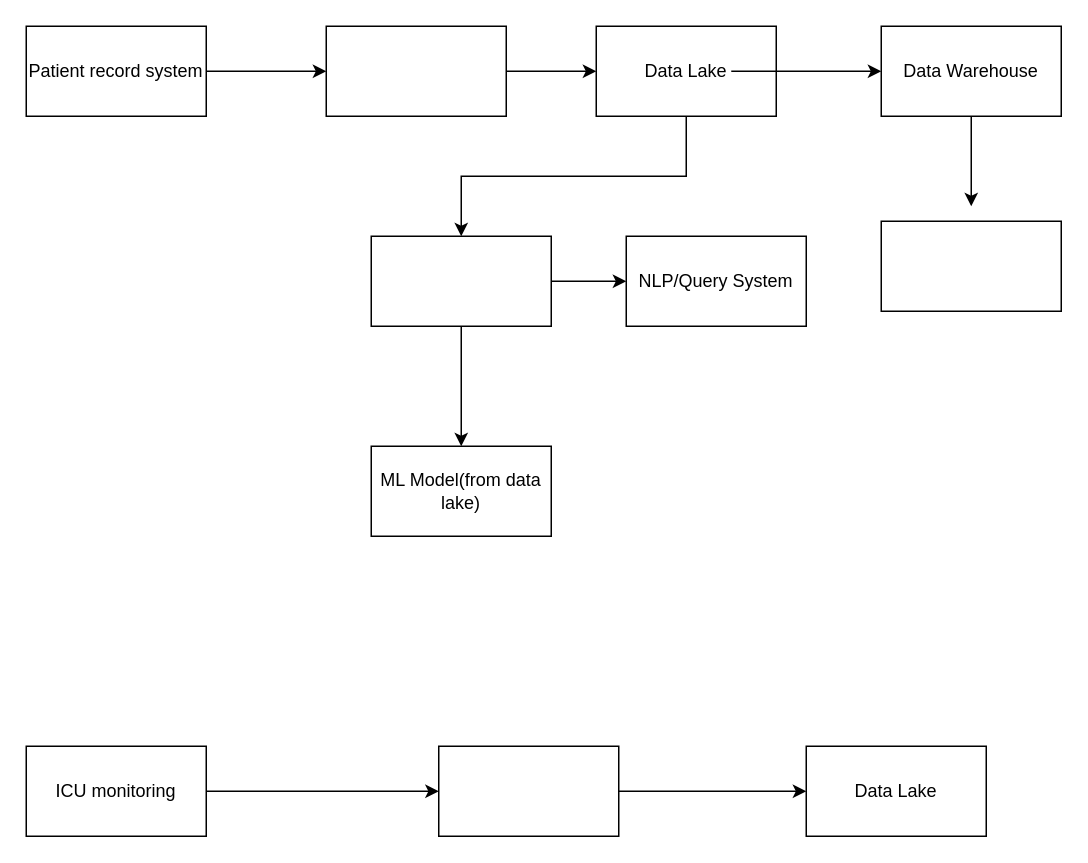
Image size: 1088x863. Some labels were removed from this diagram. The centre of each missing label's shape, as x and y in pixels:
"OLTP Database" belongs at pixel 415 70.
"Reporting Databoard" belongs at pixel 970 265.
"Streaming System" belongs at pixel 528 790.
"Vector DataBase" belongs at pixel 460 280.
